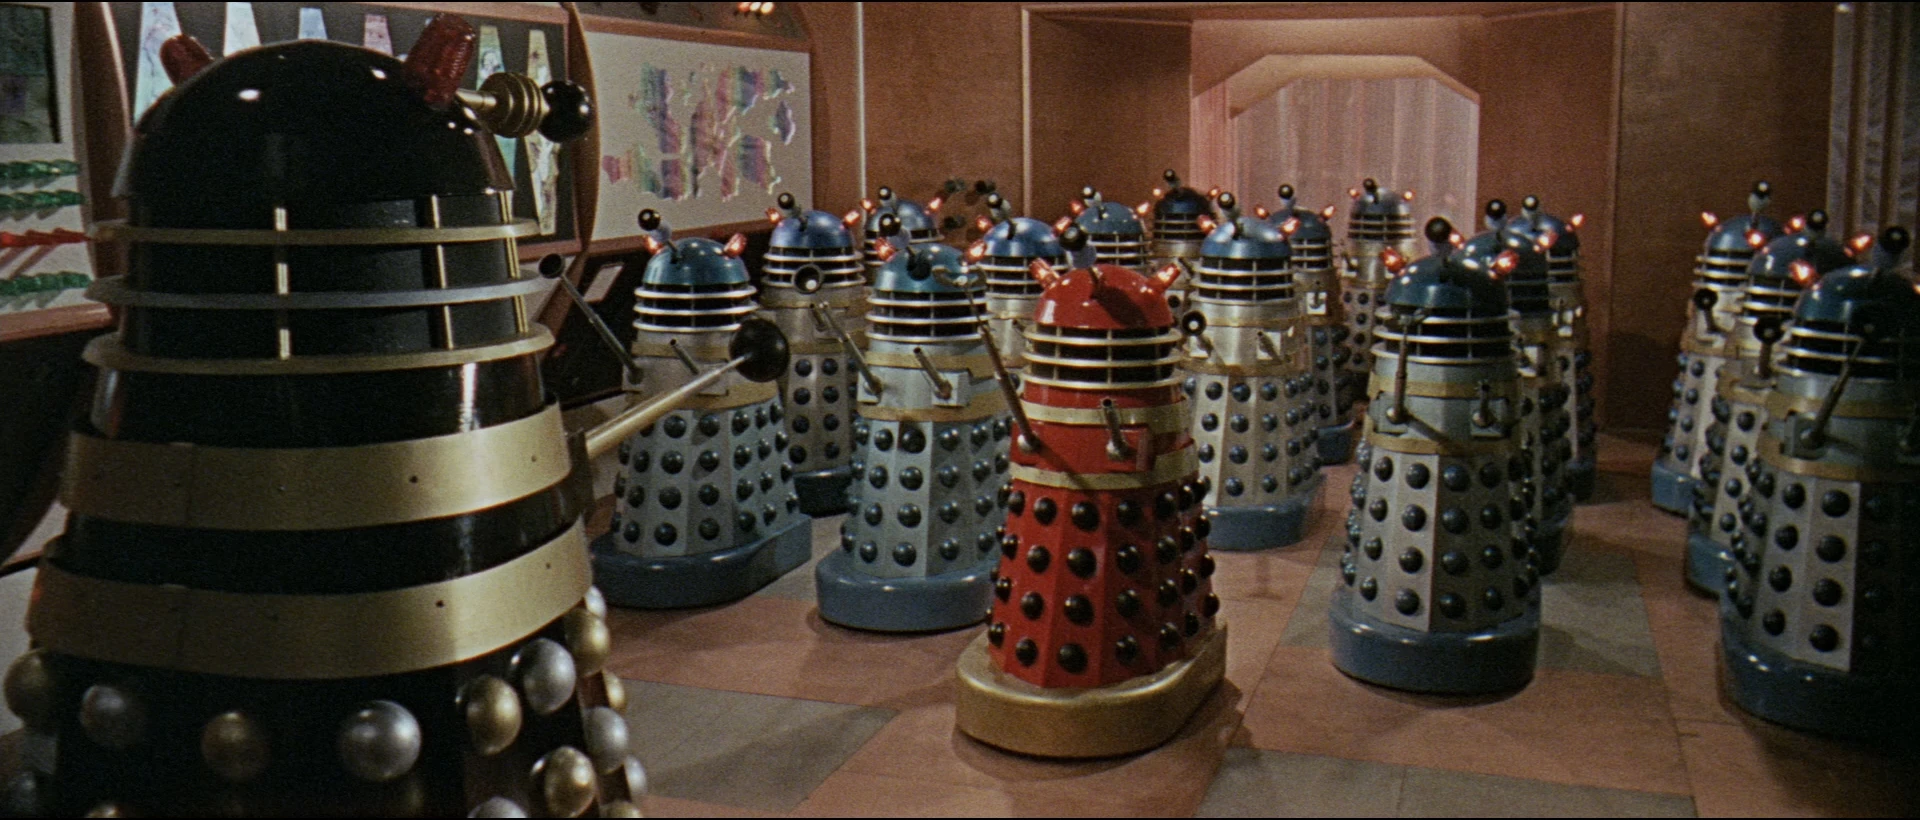Dalek: (606, 163, 1914, 762), (21, 26, 653, 807)
